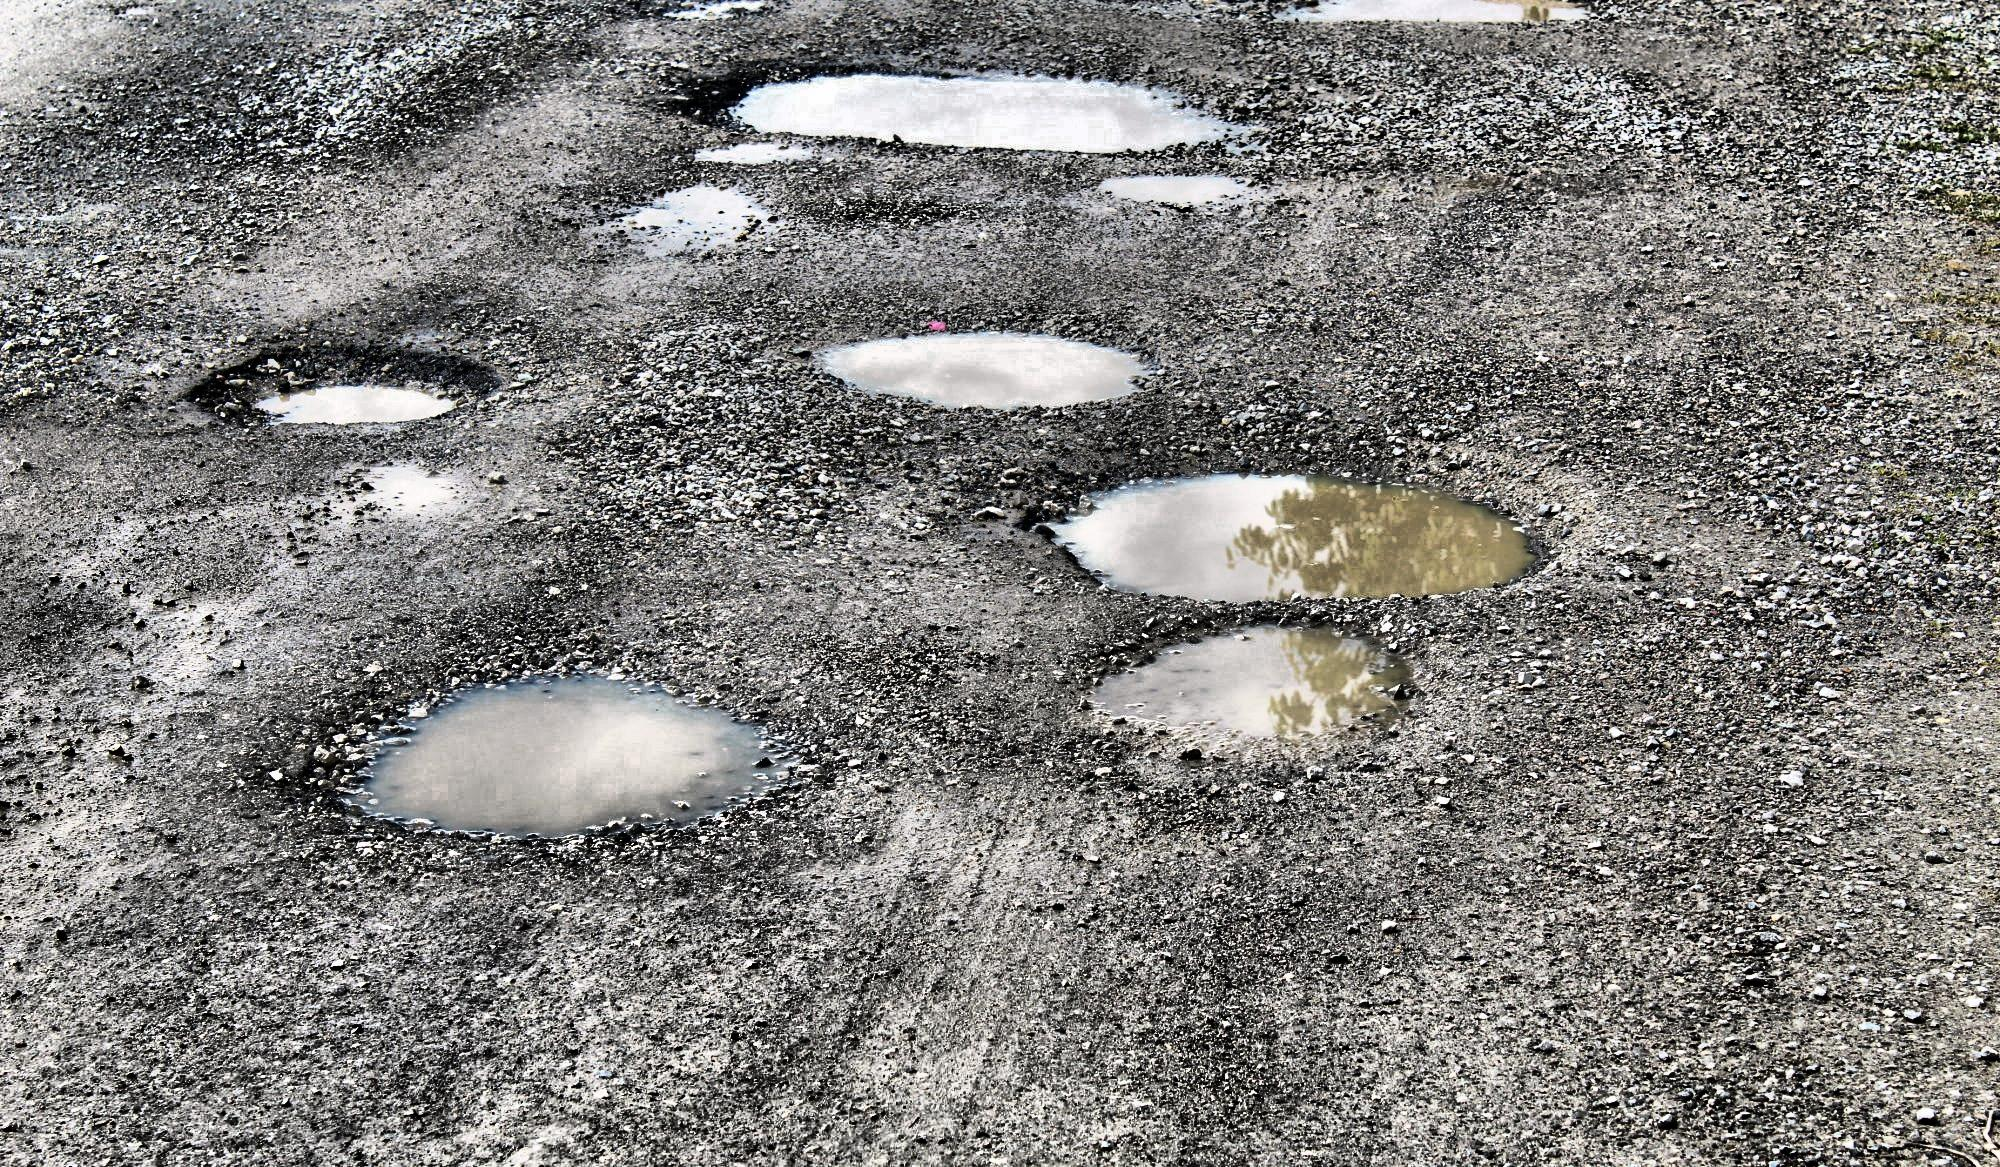pothole: (331, 657, 819, 860), (1026, 456, 1581, 617), (658, 36, 1243, 169), (1069, 617, 1453, 775), (790, 315, 1167, 424), (174, 335, 507, 440), (611, 178, 785, 256)
